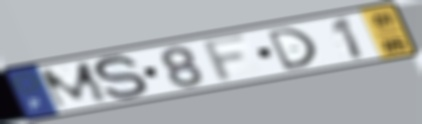1: (327, 14, 366, 62)
8: (158, 45, 205, 90)
D: (264, 26, 320, 73)
F: (199, 31, 252, 85)
M: (36, 59, 113, 112)
S: (92, 53, 151, 103)
